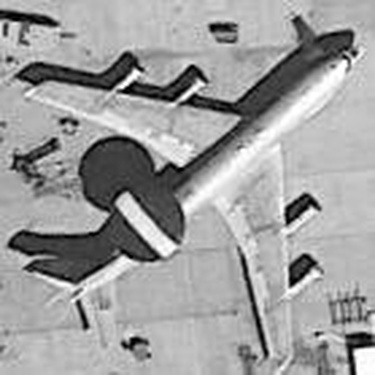airplane: (12, 9, 359, 365)
